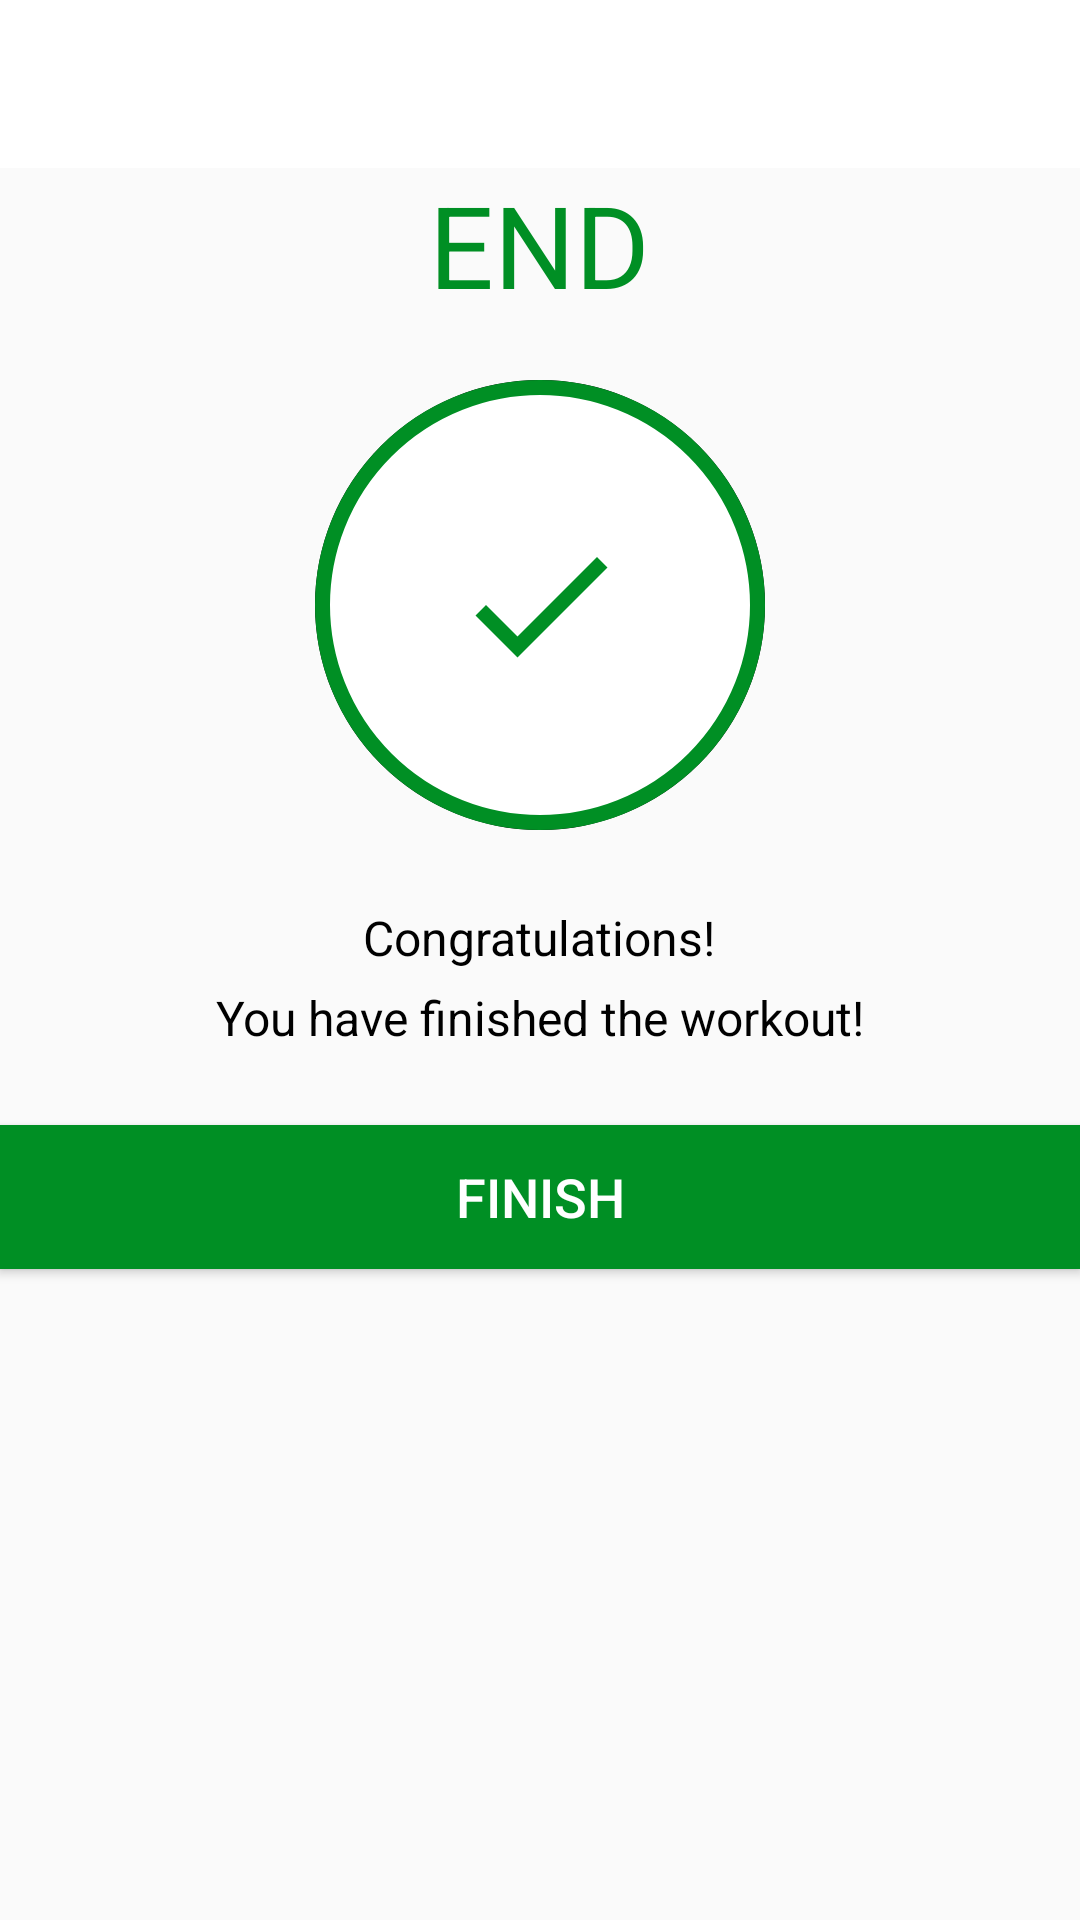

Named icons in this screenshot (1080*1920) and their centers, point (x, y):
Exercise done: point (541, 607)
